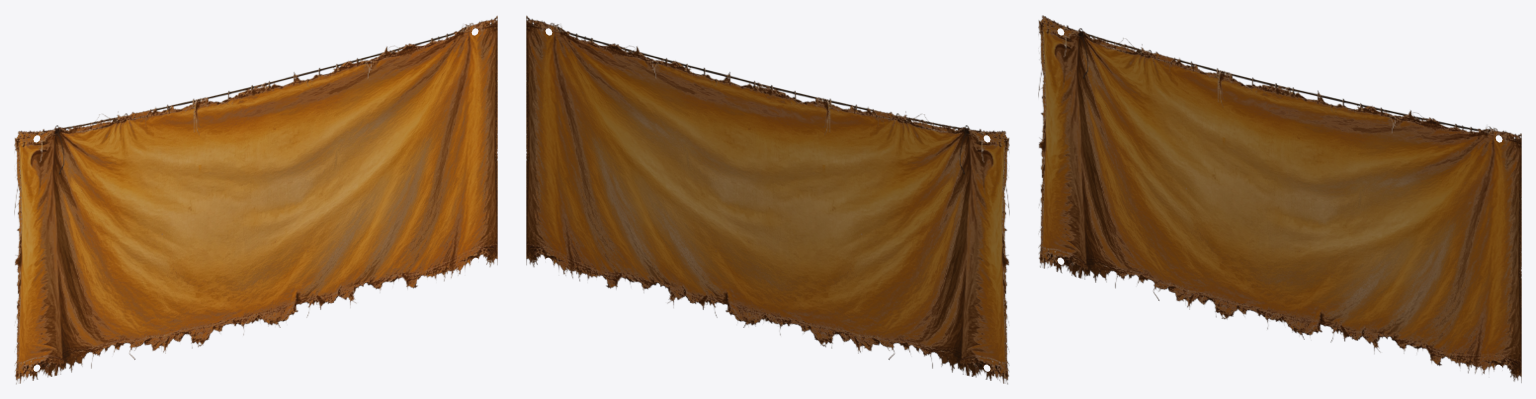
The model's file is Back.glb.
3 views of the same model, side by side, from view 1: azimuth 30°, elevation 25°; view 2: azimuth 150°, elevation 25°; view 3: azimuth 330°, elevation 25° (orthographic).
Visible parts, largest first — view 1: Notice Board Back; view 2: Notice Board Back; view 3: Notice Board Back.
Part boxes in pixels (<box>): Notice Board Back: <box>14,15,497,384</box>; Notice Board Back: <box>526,15,1009,384</box>; Notice Board Back: <box>1038,15,1521,382</box>.
Bounding box in the file's own units: 5.04 × 2.6 × 0.
1 material, 1 textured.
